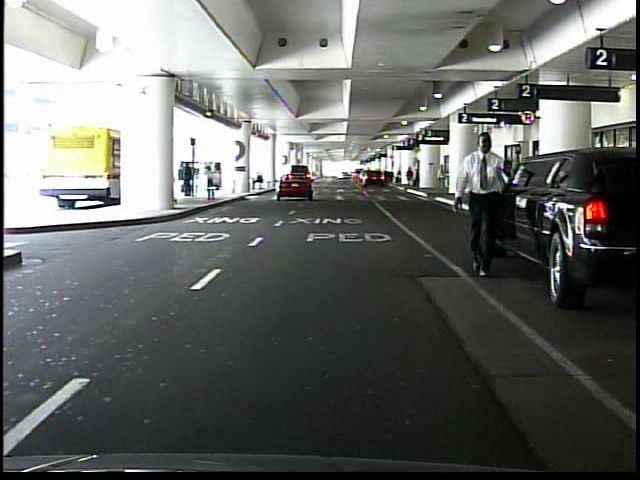person: (459, 125, 517, 283), (182, 160, 196, 198), (435, 165, 448, 192), (254, 170, 266, 192), (406, 167, 415, 189)
